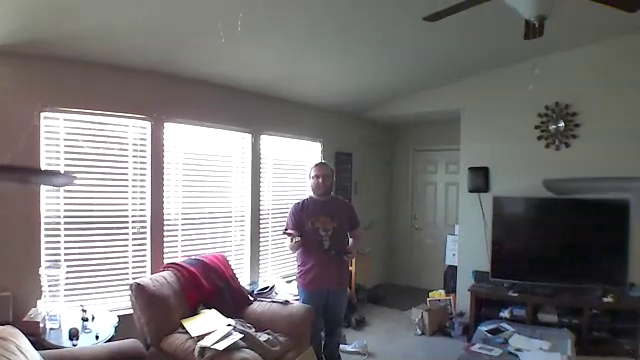land: (279, 230, 305, 246)
